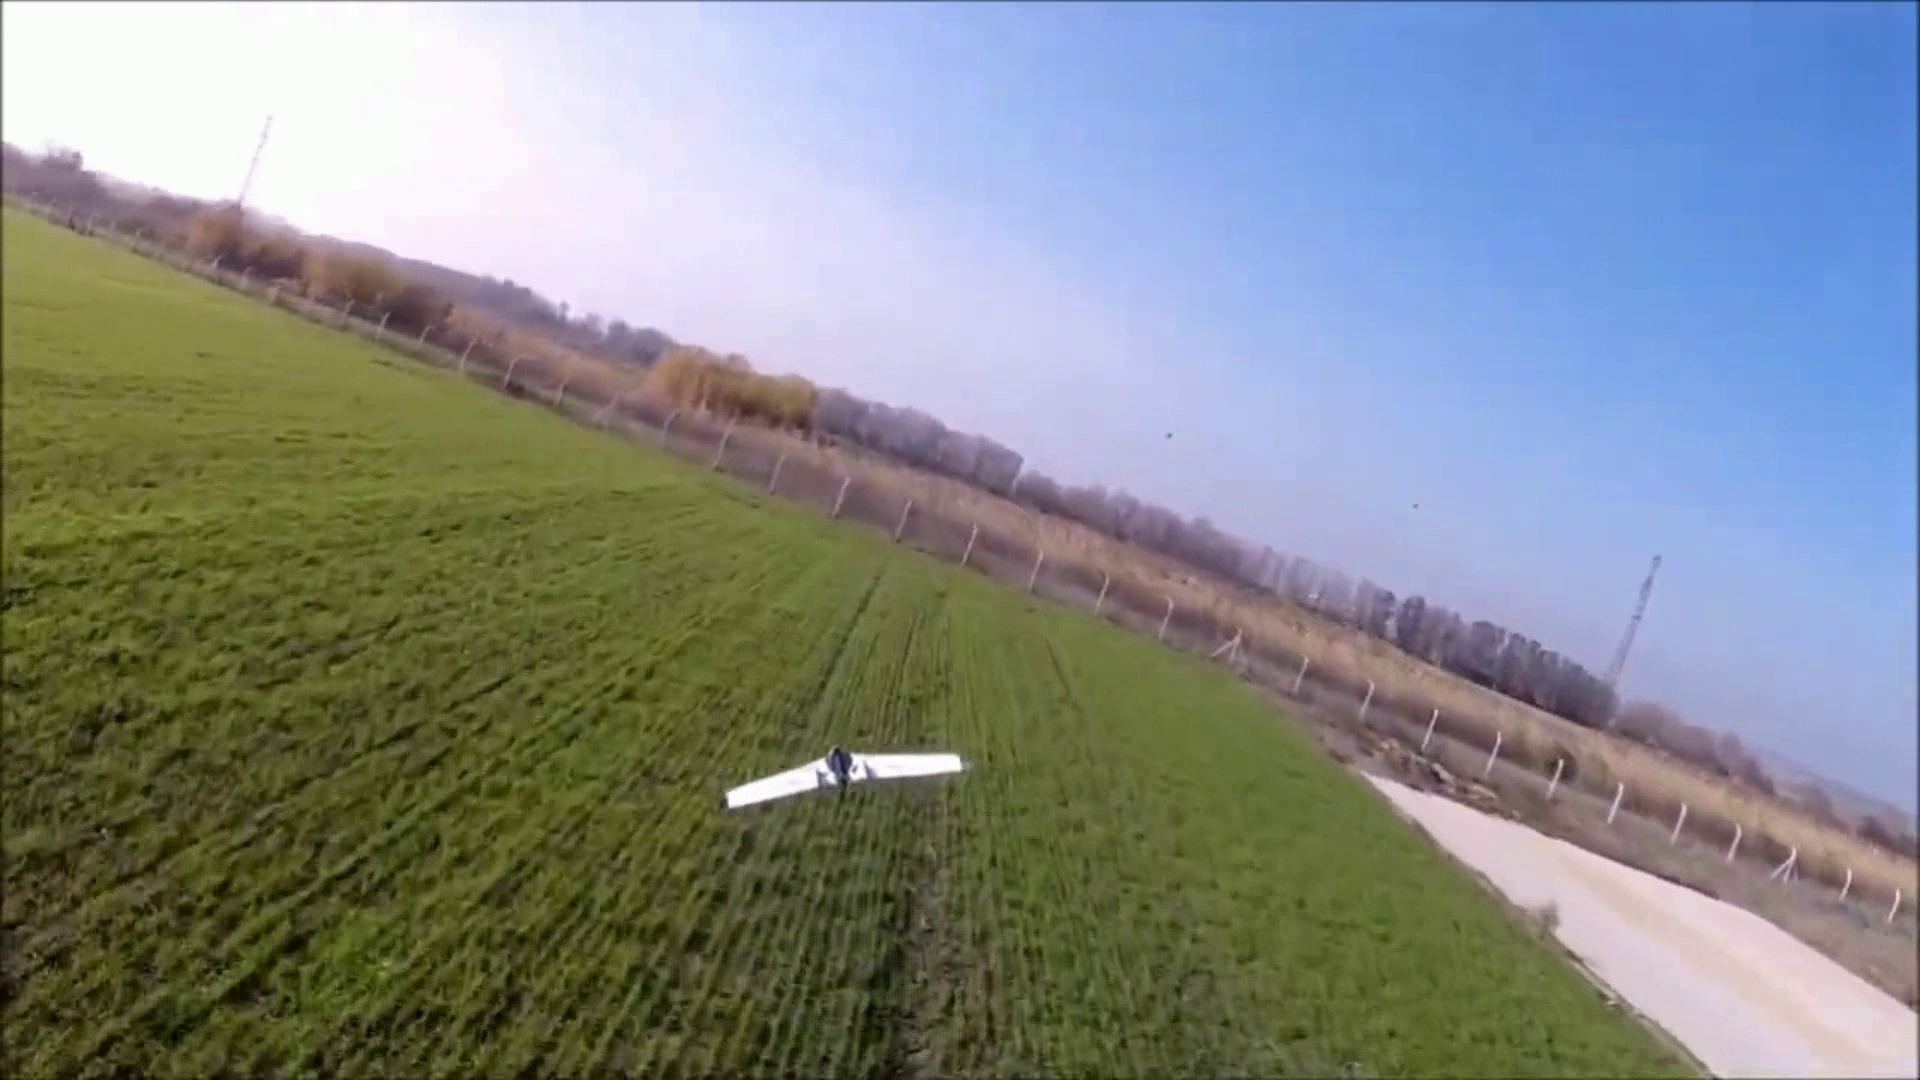airplane: (724, 746, 967, 811)
